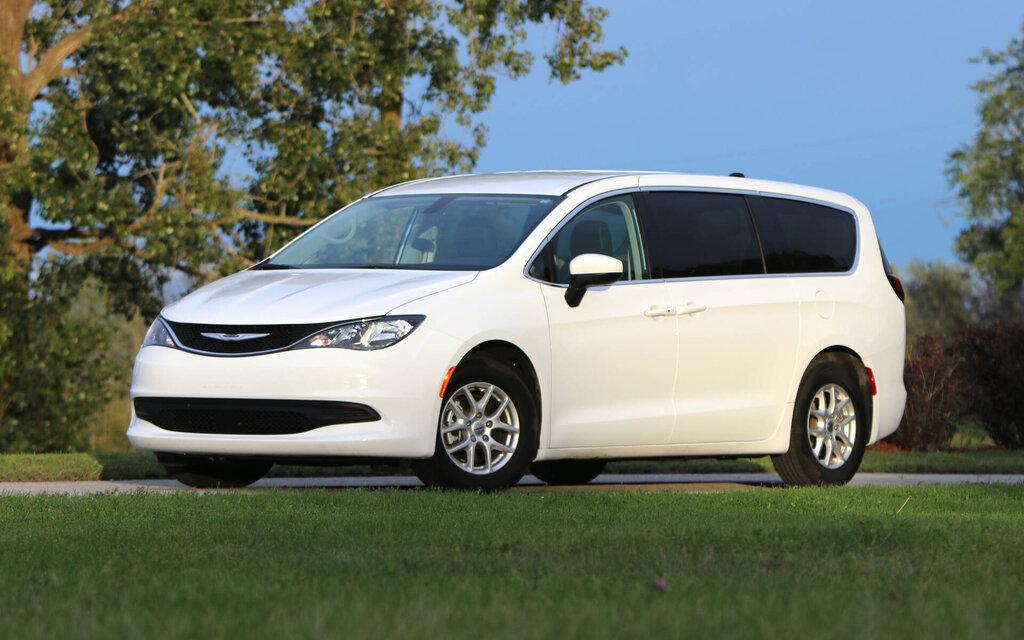Minivan: (129, 173, 905, 491)
